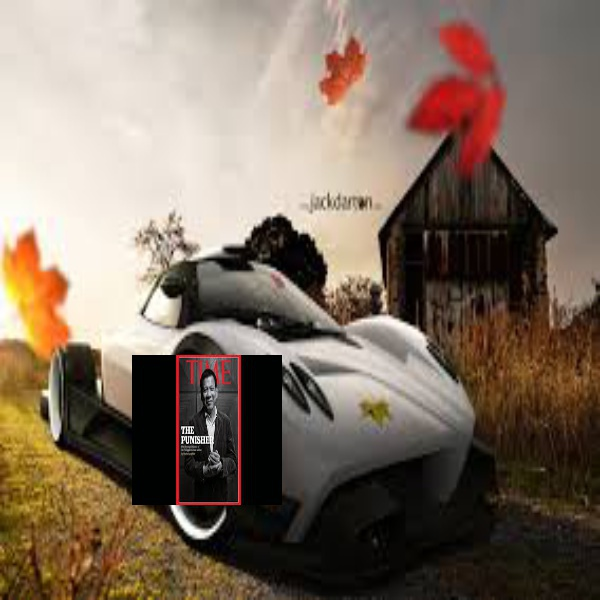time_cover: (172, 347, 239, 508)
